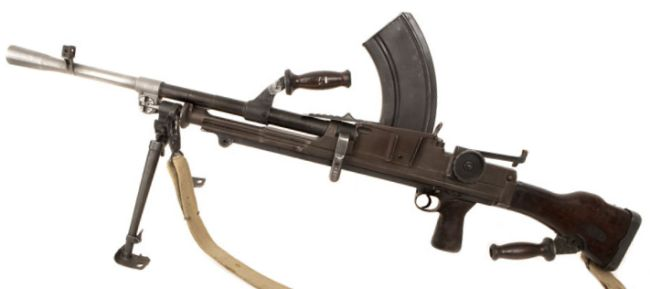rifle: (6, 29, 634, 279)
